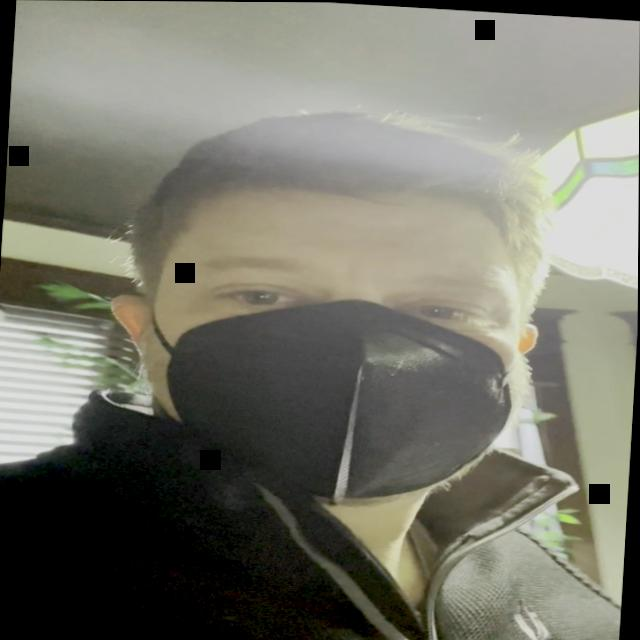Mask: (132, 173, 542, 512)
